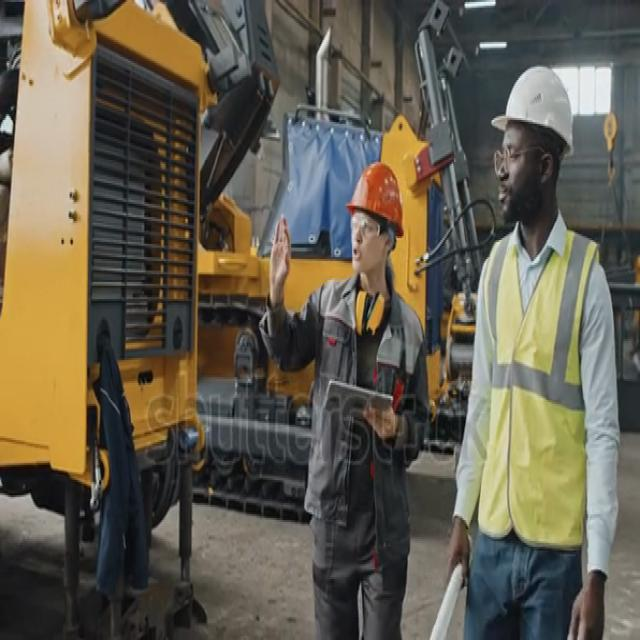Ear-Protection: (352, 282, 386, 338)
Glasses: (488, 141, 536, 178), (346, 209, 382, 244)
Helmet: (492, 62, 579, 162), (343, 162, 408, 223)
Vest: (480, 220, 600, 541)
